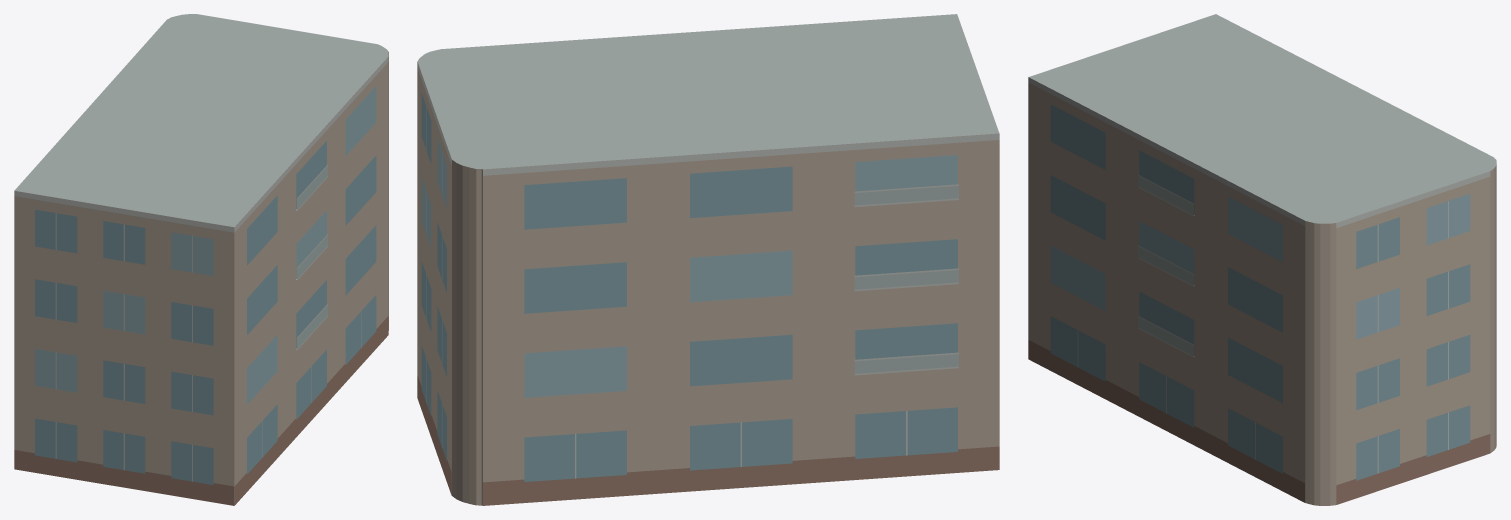
The model's file is survey-upis-32746232.glb.
3 views of the same model, side by side, from view 1: azimuth 30°, elevation 25°; view 2: azimuth 150°, elevation 25°; view 3: azimuth 270°, elevation 25° (orthographic). The views are drawn at different scales.
Visible parts, largest first — view 1: survey-upis-32746232.tmp; view 2: survey-upis-32746232.tmp; view 3: survey-upis-32746232.tmp.
Boxes of the visible parts, <box> form: survey-upis-32746232.tmp: <box>14,14,388,505</box>; survey-upis-32746232.tmp: <box>417,14,999,505</box>; survey-upis-32746232.tmp: <box>1028,14,1496,505</box>.
Size of the model in its own units: 20.41 by 12.8 by 19.25.
